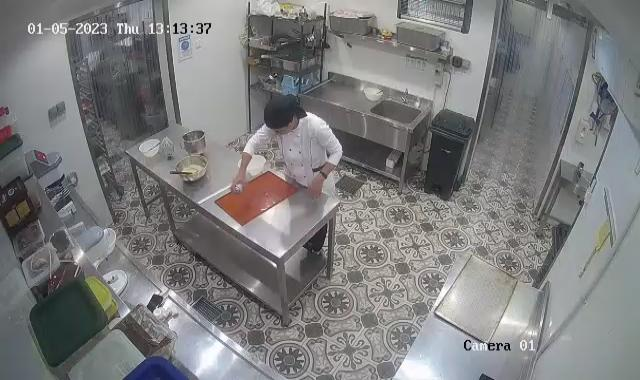no_hairnet: (264, 96, 296, 135)
